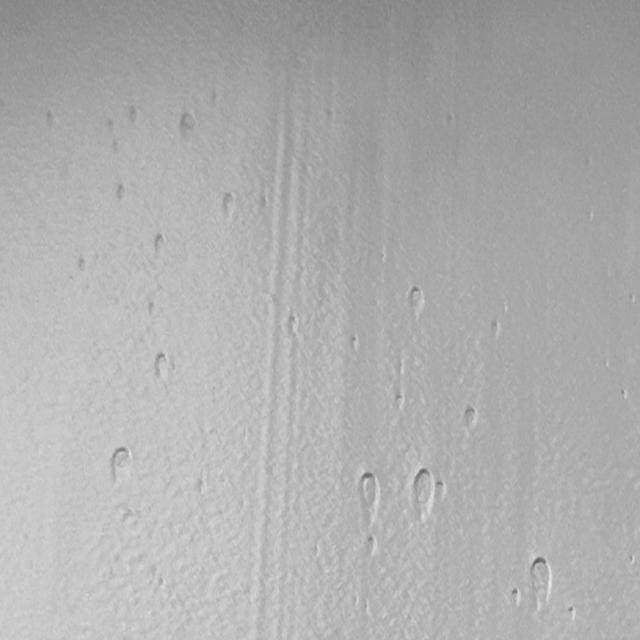pin holes: (407, 468, 439, 522), (108, 442, 139, 488), (354, 471, 383, 516), (528, 556, 556, 601), (150, 351, 174, 384), (405, 284, 427, 315), (178, 110, 200, 140), (217, 191, 238, 220), (460, 404, 480, 431), (283, 312, 301, 338), (40, 110, 59, 134), (360, 533, 378, 558), (153, 232, 170, 257), (114, 184, 132, 206), (126, 106, 141, 128), (509, 586, 523, 609), (393, 392, 408, 413), (488, 319, 502, 341), (145, 298, 160, 318), (435, 478, 449, 499), (76, 257, 92, 275), (104, 117, 117, 137), (347, 334, 360, 352), (619, 387, 632, 405), (567, 606, 579, 624), (112, 138, 124, 156), (627, 294, 637, 309)
